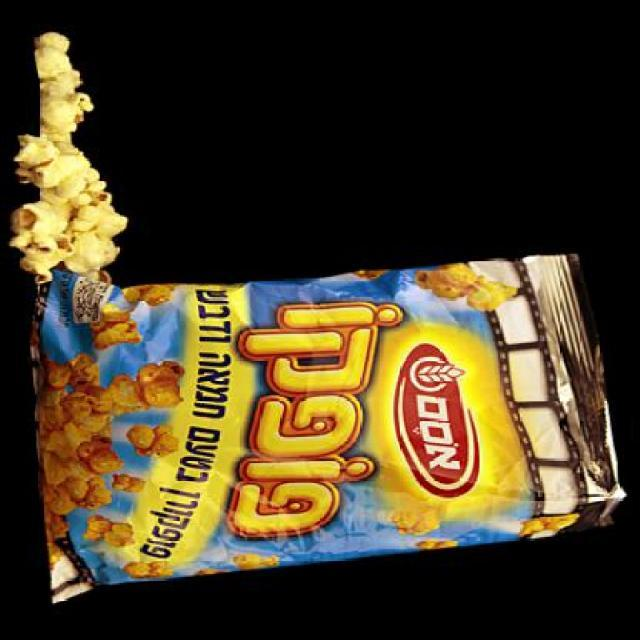Chips: (30, 238, 622, 626)
Popcorn: (1, 33, 139, 302)
